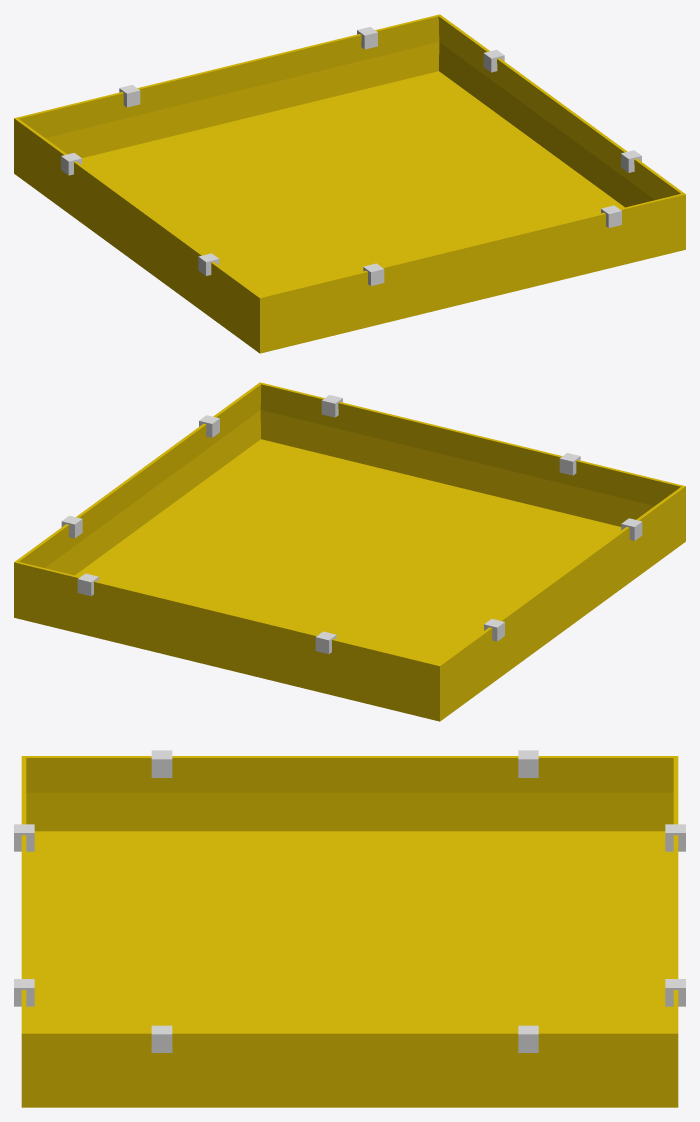
The model's file is item_depot.fbx.
3 renders of one model, top to bottom at view 1: azimuth 30°, elevation 25°; view 2: azimuth 150°, elevation 25°; view 3: azimuth 270°, elevation 25°, orthographic. The views are drawn at different scales.
Visible parts, largest first — view 1: Cube; view 2: Cube; view 3: Cube, input2, input3, input1, input4.
Boxes of the visible parts, x1,y1,x2,y2 form: Cube: (14,14,685,353); Cube: (14,382,685,721); Cube: (21,756,678,1107); input2: (151,750,172,777); input3: (151,1025,172,1052); input1: (518,750,538,777); input4: (518,1025,538,1052).
Size of the model in its own units: 205 by 25.61 by 205.
